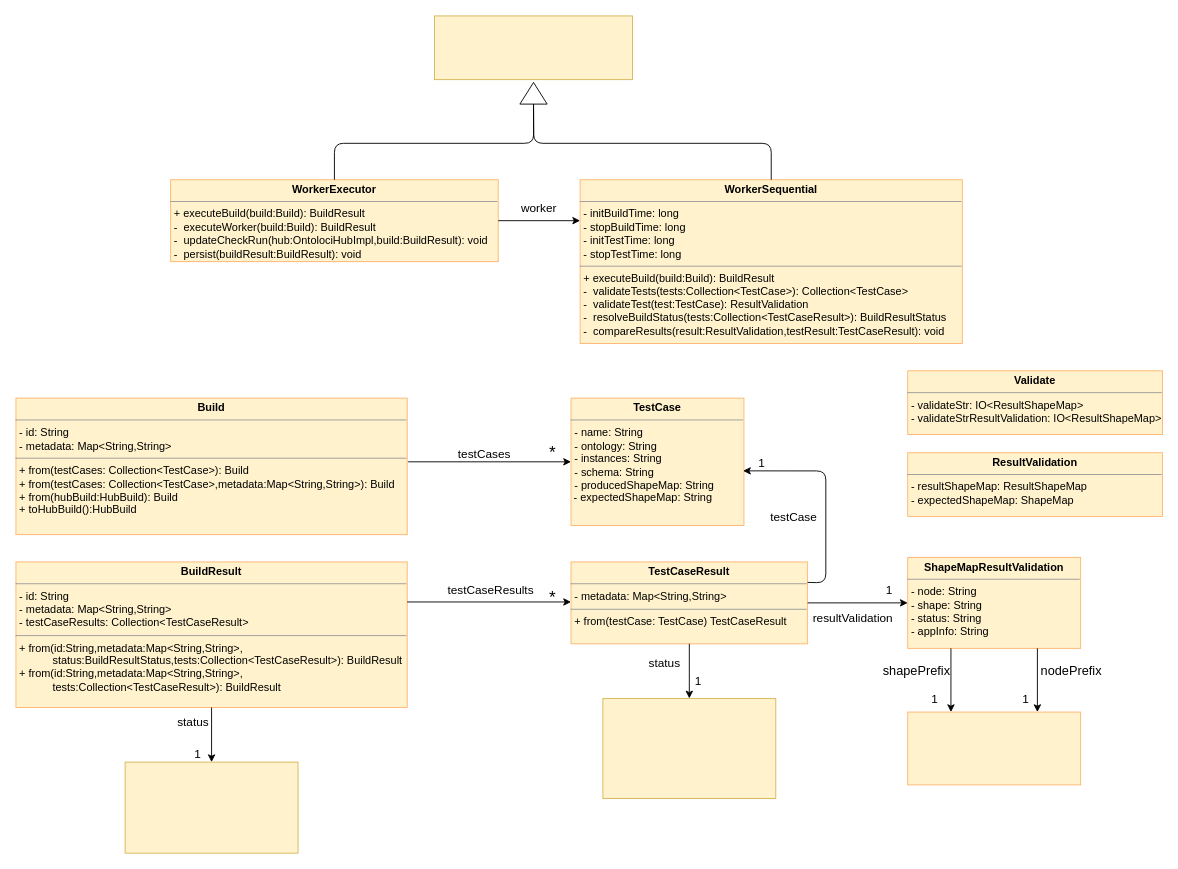
The diagram is 1178 pixels wide and 869 high, and some of its shapes have lost their labels. The shapes that lost their labels are listed below. From the top down, each one's box as (x1, y1, x2, y2) in pixels, then its label:
(434, 15, 632, 80): <<Interface>> Worker + executeBuild(build:Build): BuildResult
(602, 698, 776, 799): <<enum>> TestResultStatus + WAITING + EXECUTING + SUCCESS + FAILURE
(907, 711, 1081, 785): PrefixedNode - qname: String - iri: String - node: String
(124, 761, 298, 853): <<enum>> BuildResultStatus + SUCCESS + FAILURE + CANCELLED
